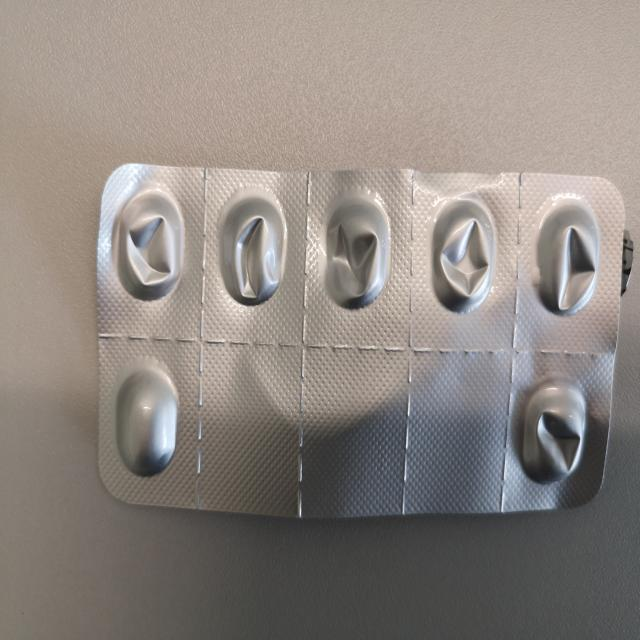Empty: (212, 185, 294, 311), (316, 185, 394, 315), (425, 185, 498, 320), (532, 189, 602, 322), (112, 181, 186, 304), (518, 371, 592, 494)
Pill: (115, 357, 180, 480)
